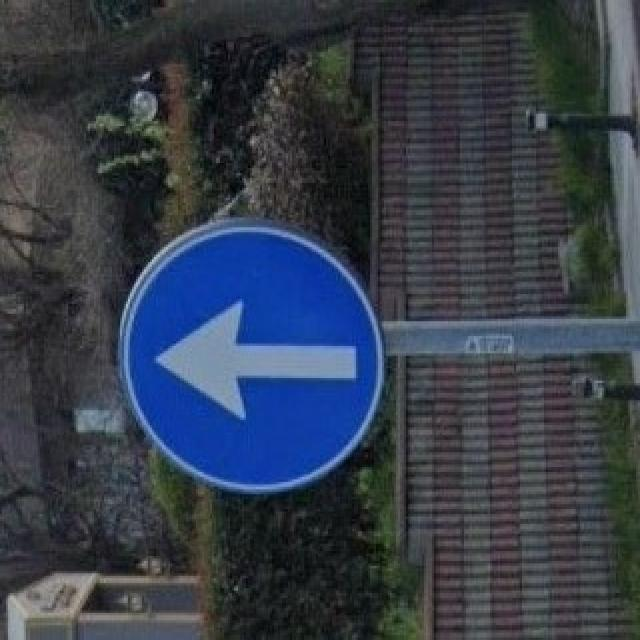Turn Left: (127, 217, 387, 494)
